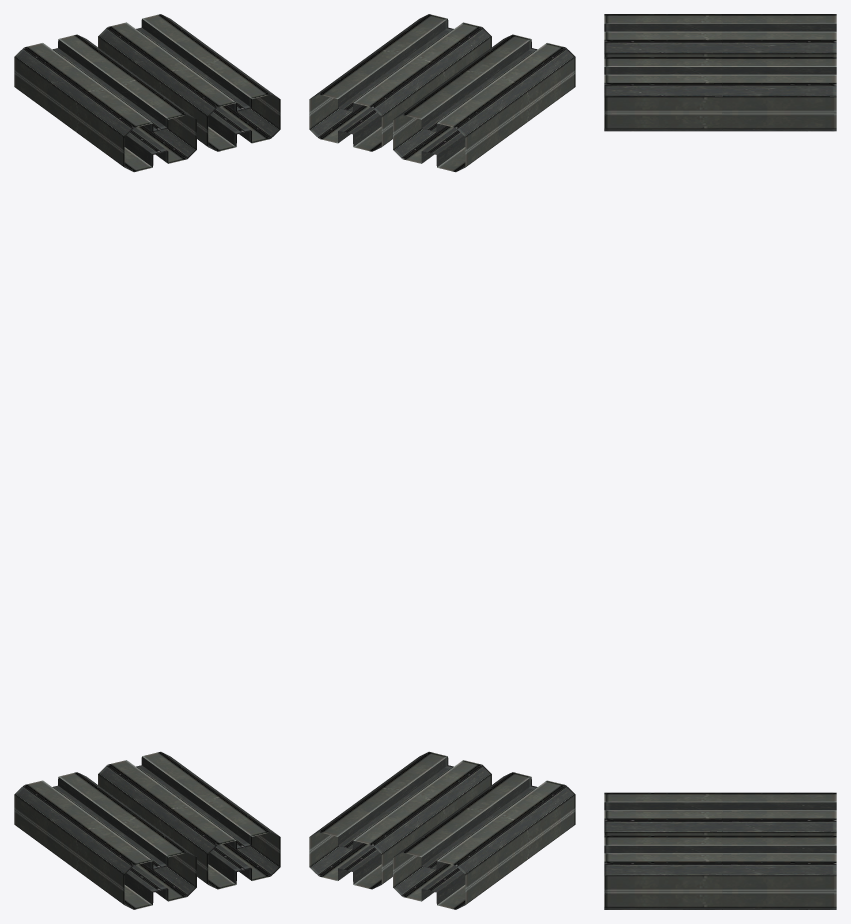
Rendered from TallWindowFrame_1x1.FBX.
3 renders of one model, left to right at view 1: azimuth 30°, elevation 25°; view 2: azimuth 150°, elevation 25°; view 3: azimuth 270°, elevation 25°, orthographic. The views are drawn at different scales.
Parts seen in each view (by area): view 1: TallWindowFrame_1x1; view 2: TallWindowFrame_1x1; view 3: TallWindowFrame_1x1.
Part boxes in pixels (<box>): TallWindowFrame_1x1: <box>14,14,280,909</box>; TallWindowFrame_1x1: <box>309,14,575,909</box>; TallWindowFrame_1x1: <box>604,14,836,909</box>.
Bounding box in the file's own units: 0.8183 × 3.92 × 1.
